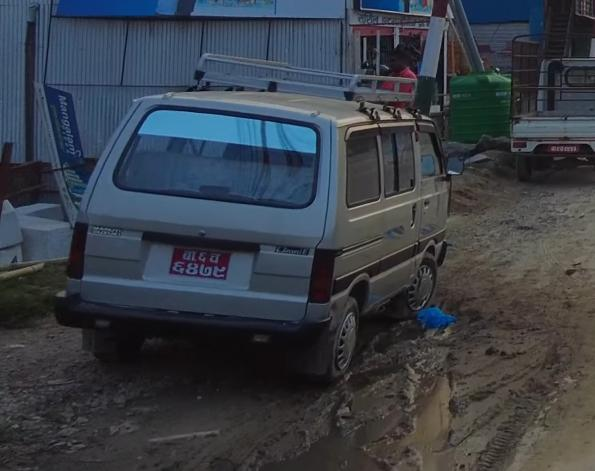transport_vehicle: (505, 31, 595, 177)
van: (47, 50, 461, 376)
